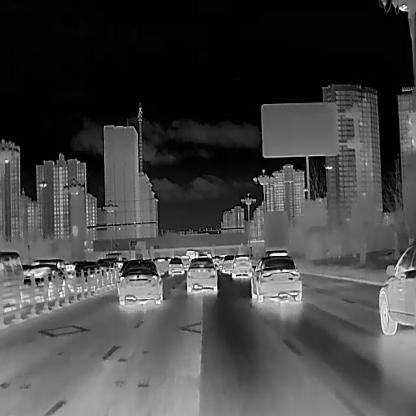car: (378, 241, 415, 335), (247, 255, 302, 302), (117, 258, 162, 304), (21, 263, 67, 303), (0, 250, 23, 311), (66, 261, 102, 292), (186, 256, 217, 291), (231, 254, 253, 278), (97, 258, 117, 283), (167, 256, 184, 275), (220, 253, 234, 274), (186, 249, 195, 260)
